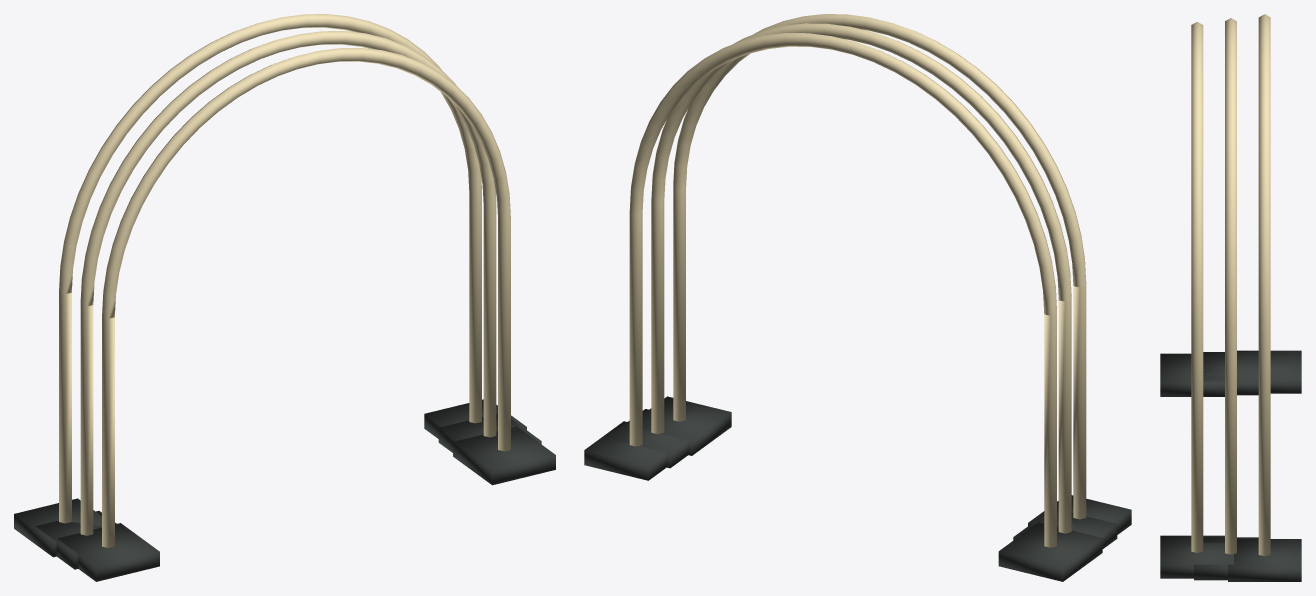
Rendered from portal-arch-triple.glb.
3 views of the same model, side by side, from view 1: azimuth 30°, elevation 25°; view 2: azimuth 150°, elevation 25°; view 3: azimuth 270°, elevation 25° (orthographic). The views are drawn at different scales.
Visible parts, largest first — view 1: arch-frame-0, feet-1; view 2: arch-frame-0, feet-1; view 3: arch-frame-0, feet-1.
Boxes of the visible parts, x1,y1,x2,y2 form: arch-frame-0: (59,14,510,547); feet-1: (14,399,555,581); arch-frame-0: (629,14,1086,547); feet-1: (584,396,1131,581); arch-frame-0: (1191,14,1270,556); feet-1: (1160,350,1301,581).
Bounding box in the file's own units: 3.35 × 3.14 × 0.92.
